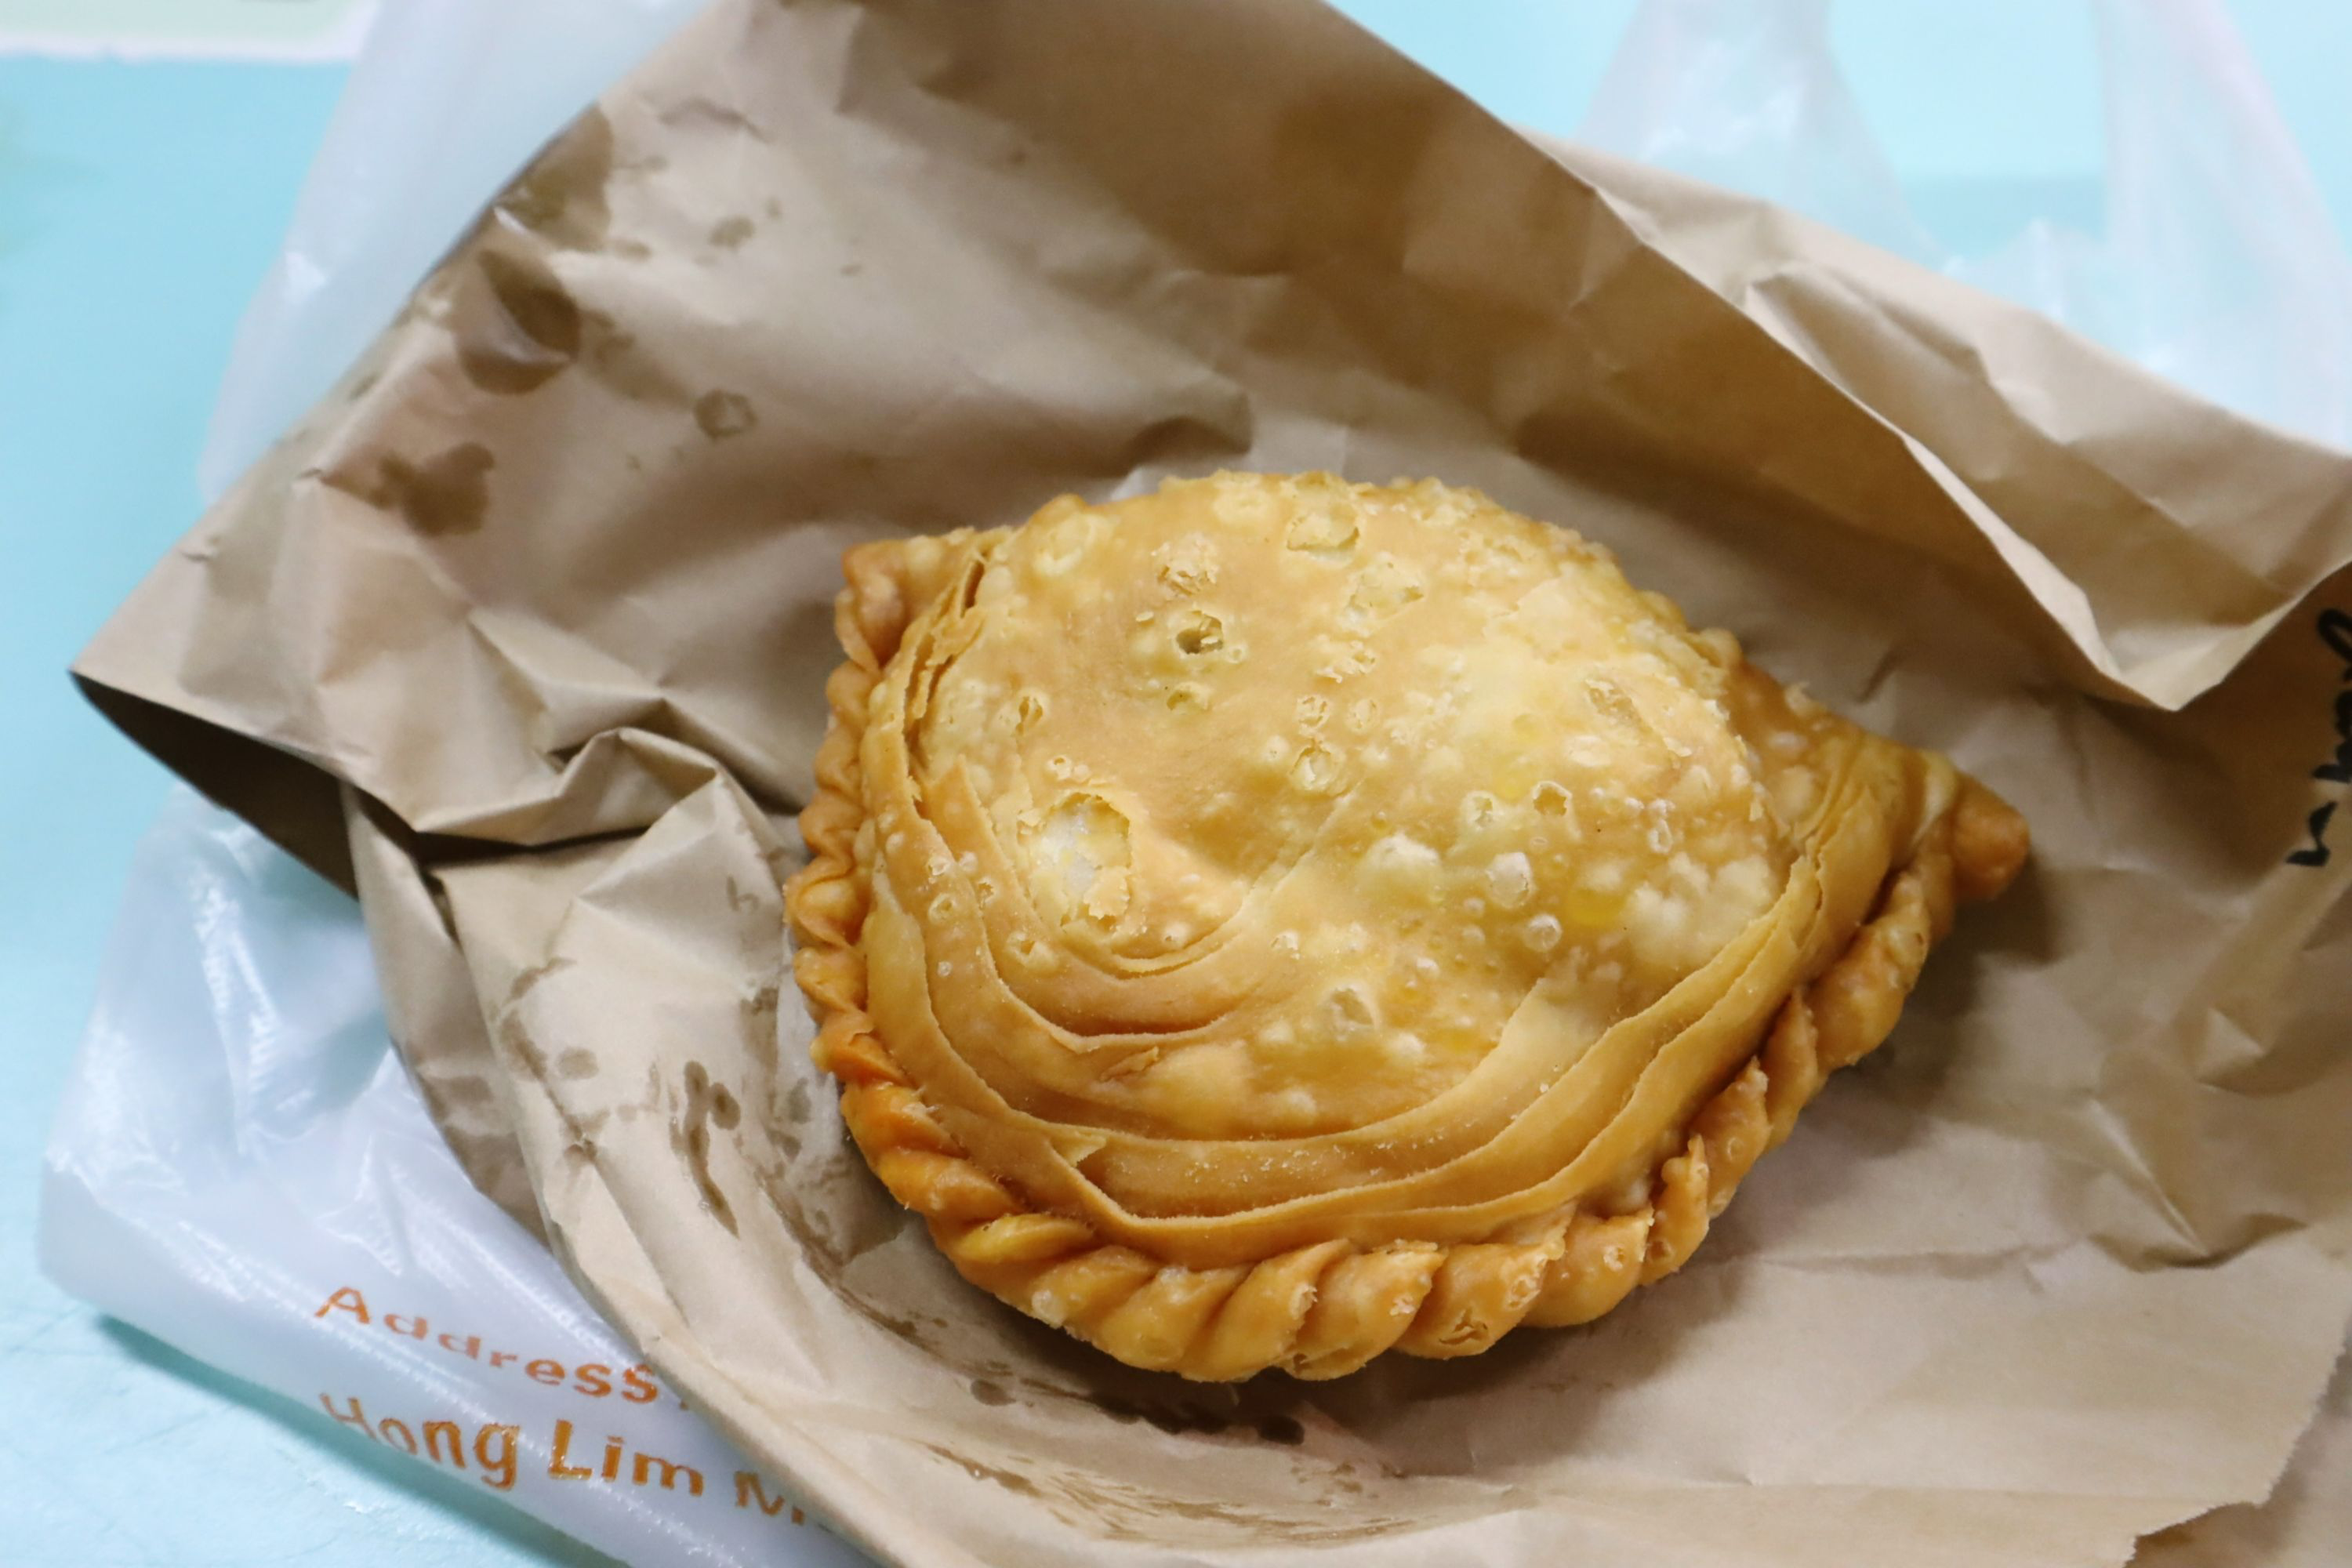Curry Puff: (808, 434, 2065, 1418)
